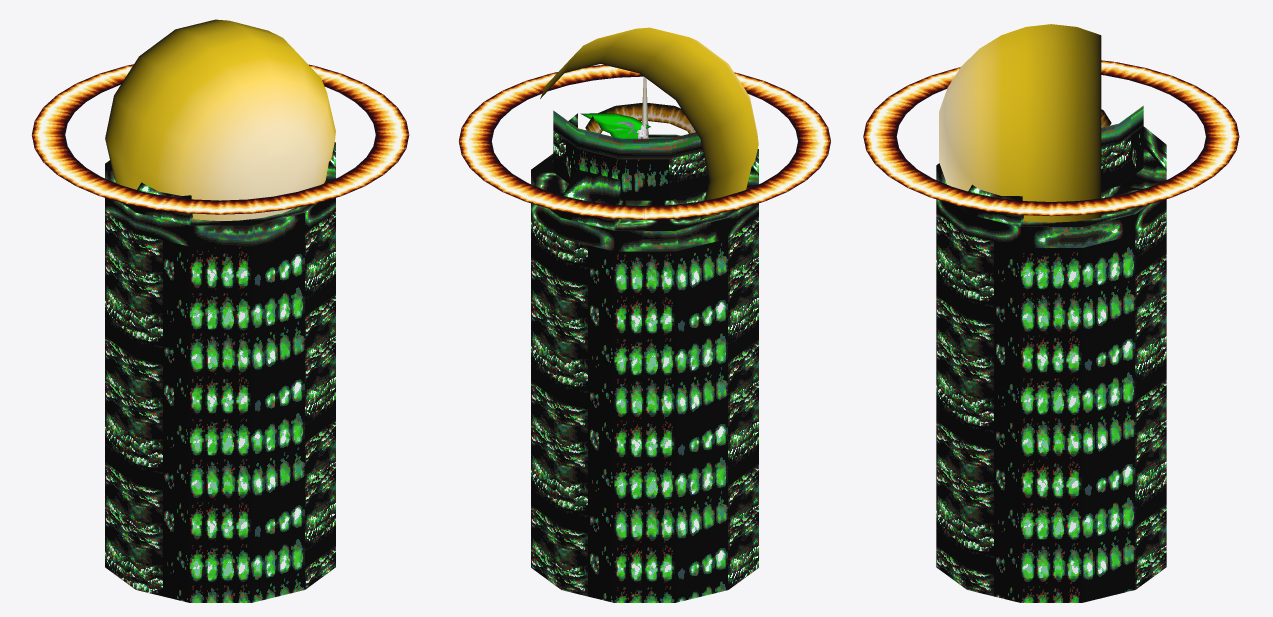
File: dark_lumina_3_effects.glb
3 renders of one model, left to right at view 1: azimuth 30°, elevation 25°; view 2: azimuth 150°, elevation 25°; view 3: azimuth 270°, elevation 25°, orthographic.
Parts seen in each view (by area): view 1: Part_09, Part_12, Part_11, Part_13, Part_10, Part_14; view 2: Part_12, Part_11, Part_13, Part_14, Part_10, Part_09, Part_08, Part_01; view 3: Part_11, Part_12, Part_13, Part_09, Part_10, Part_14.
Part boxes in pixels (x1=…): Part_09: x1=105, y1=19, x2=335, y2=220; Part_12: x1=105, y1=316, x2=335, y2=477; Part_11: x1=105, y1=442, x2=335, y2=602; Part_13: x1=105, y1=198, x2=335, y2=351; Part_10: x1=32, y1=64, x2=409, y2=214; Part_14: x1=105, y1=142, x2=335, y2=225; Part_12: x1=531, y1=320, x2=758, y2=478; Part_11: x1=531, y1=444, x2=758, y2=602; Part_13: x1=531, y1=203, x2=758, y2=354; Part_14: x1=531, y1=110, x2=758, y2=230; Part_10: x1=458, y1=65, x2=830, y2=219; Part_09: x1=540, y1=27, x2=758, y2=219; Part_08: x1=585, y1=103, x2=695, y2=133; Part_01: x1=580, y1=113, x2=650, y2=138; Part_11: x1=936, y1=442, x2=1166, y2=602; Part_12: x1=936, y1=317, x2=1166, y2=477; Part_13: x1=936, y1=199, x2=1166, y2=352; Part_09: x1=939, y1=24, x2=1101, y2=222; Part_10: x1=863, y1=60, x2=1239, y2=216; Part_14: x1=936, y1=105, x2=1166, y2=226.
Bounding box in the file's own units: 21.28 × 31.92 × 21.97.
23 materials, 18 textured.
